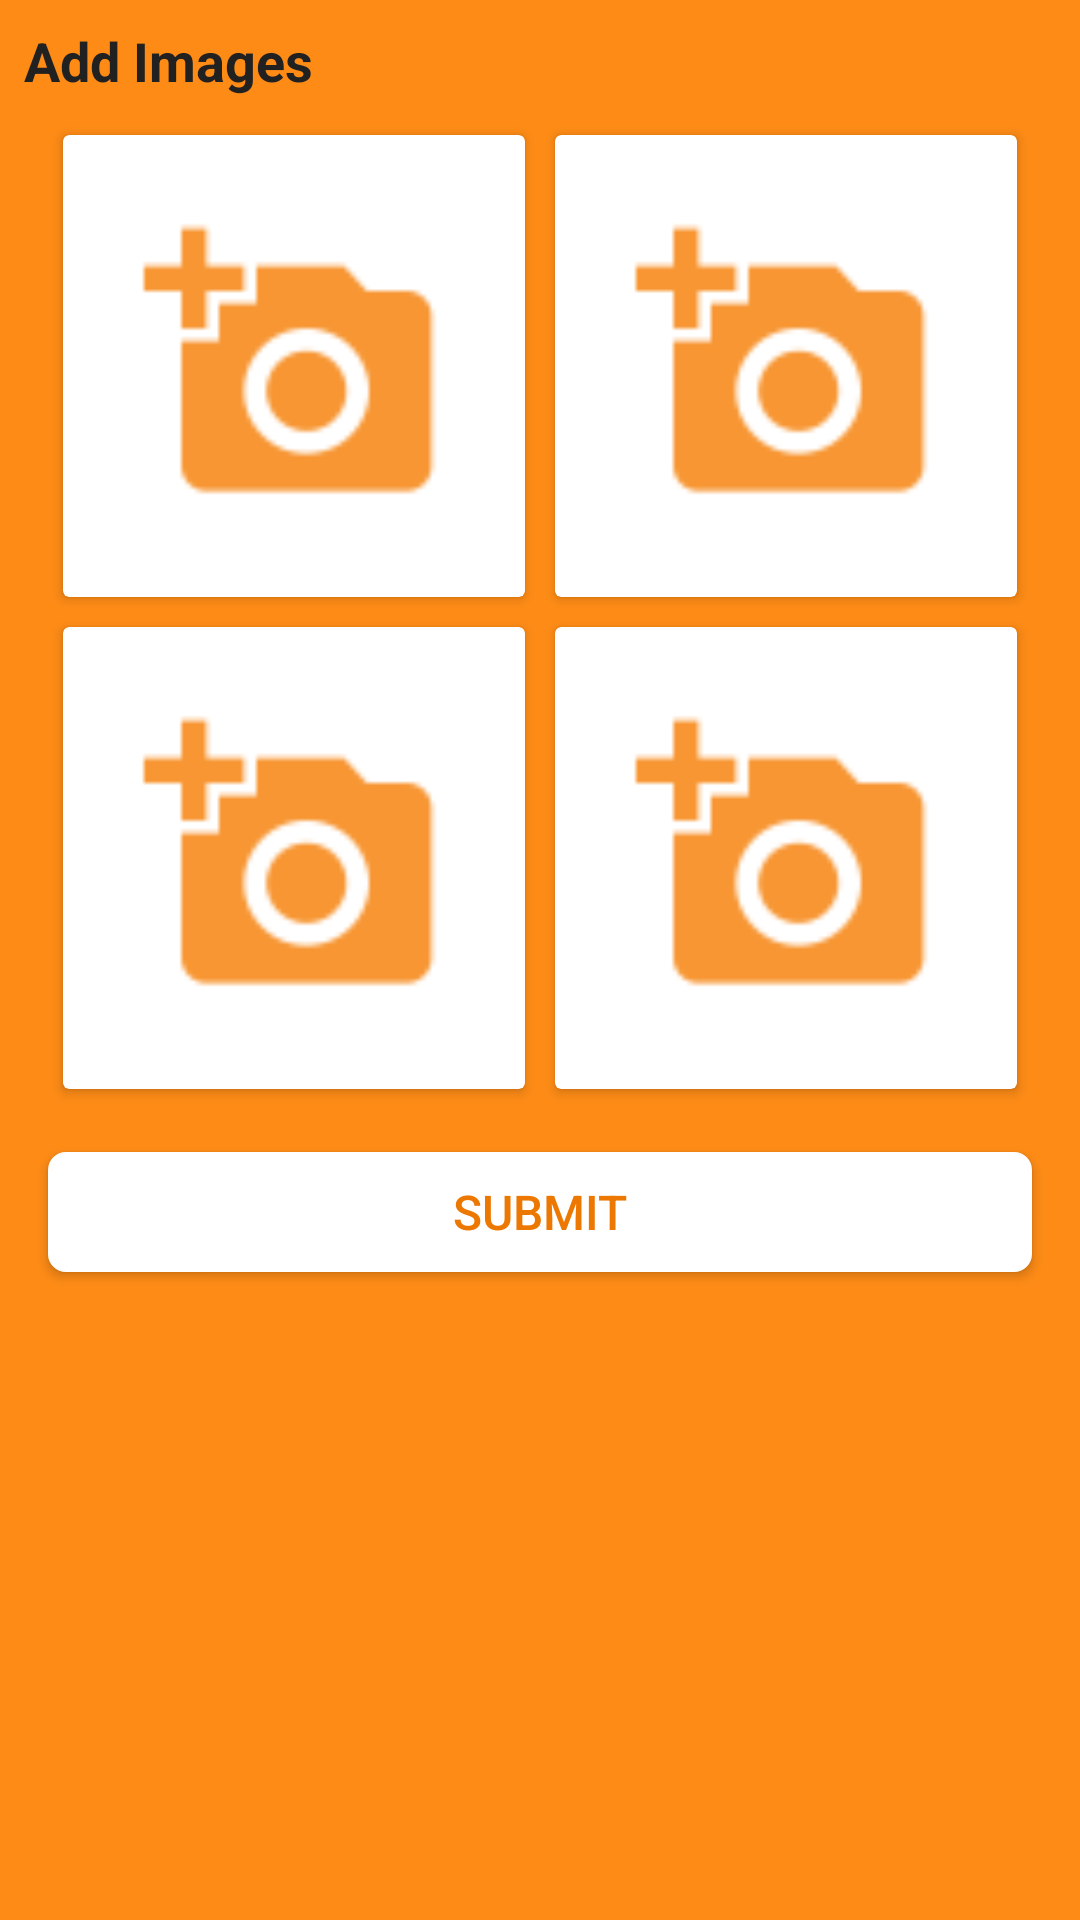

Named icons in this screenshot (1080*1920) and their centers, [x,y]:
capture: [288,359], [780,359], [288,851], [780,851]
